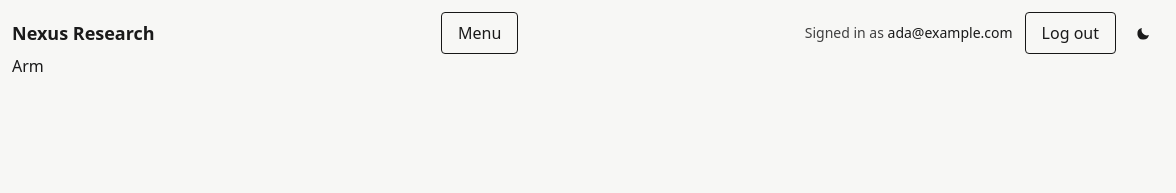
Test: app header › closes the narrow menu after a link is chosen
Step 1. Click the button "Menu" → (480,33), box [441,12,518,54]
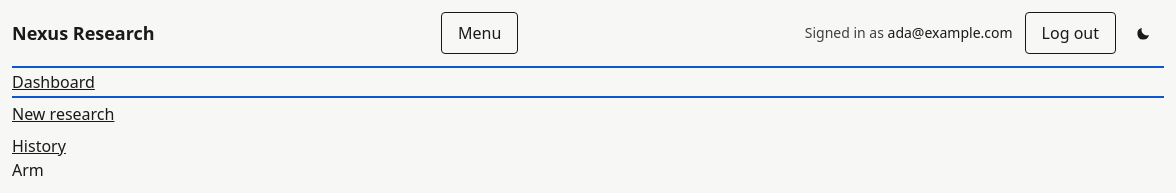
Step 2. Click the link "History" → (39,146), box [12,135,66,157]
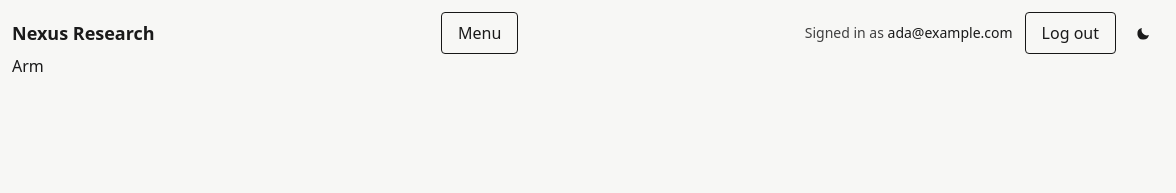
Now the link "Dashboard" is gone
